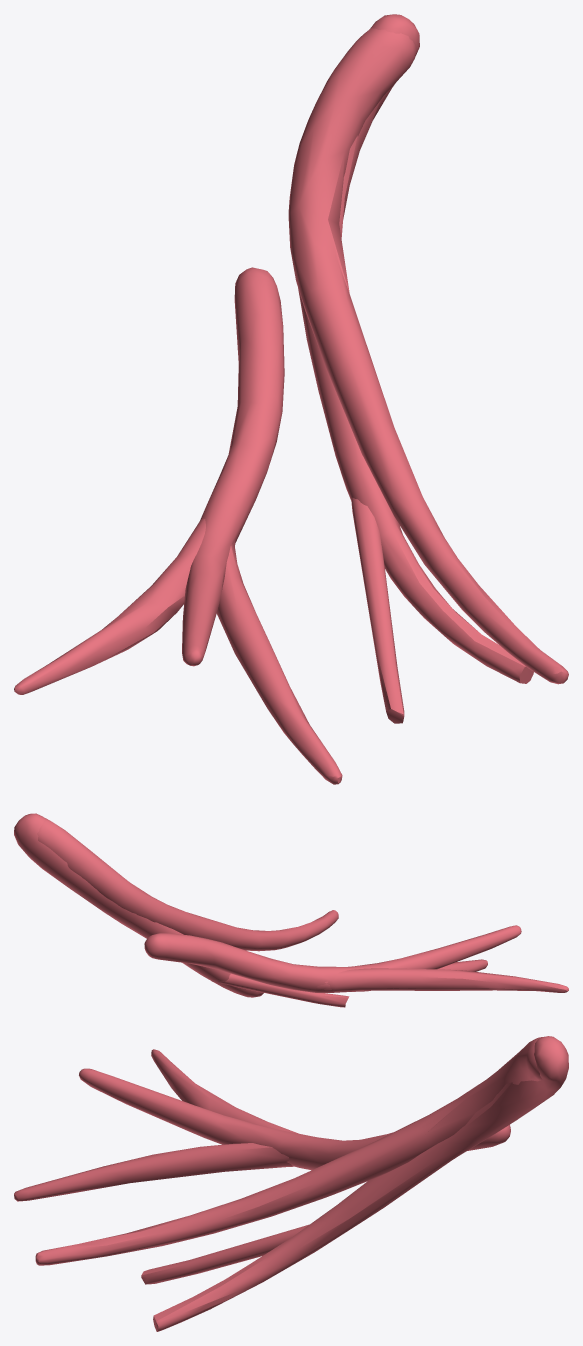
Rendered from fma8665_cx276.glb.
The picture shows the model from 3 angles, top to bottom: view 1: azimuth 30°, elevation 25°; view 2: azimuth 150°, elevation 25°; view 3: azimuth 270°, elevation 25°; orthographic projection. The views are drawn at different scales.
Visible parts, largest first — view 1: FMA8665_CX276; view 2: FMA8665_CX276; view 3: FMA8665_CX276.
Part boxes in pixels (x1,y1,x2,y2): FMA8665_CX276: [14, 14, 568, 784]; FMA8665_CX276: [14, 813, 568, 1007]; FMA8665_CX276: [14, 1036, 568, 1331].
Bounding box in the file's own units: 0.0836 × 0.0542 × 0.0796.
